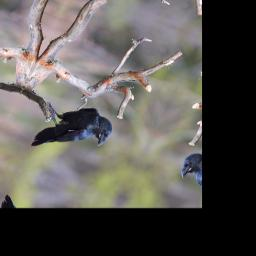Crow: (27, 93, 120, 171)
